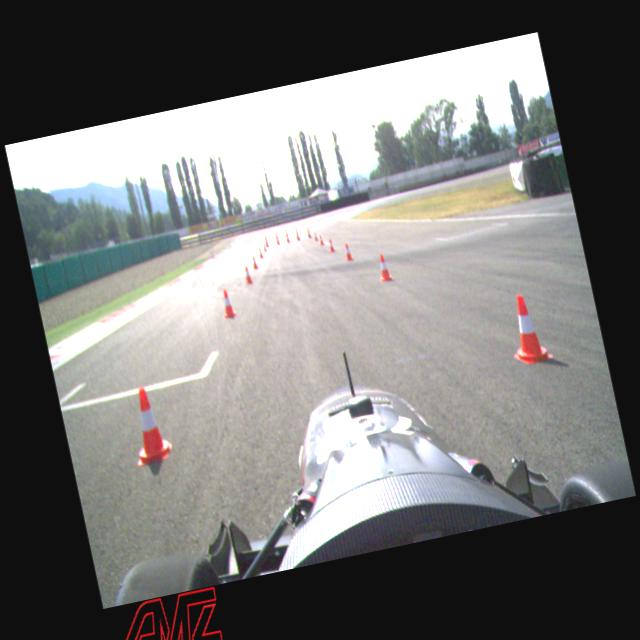large_orange_cone: (273, 231, 281, 245), (283, 229, 291, 243), (304, 225, 312, 238), (294, 227, 300, 241), (263, 234, 269, 247)
orange_cone: (122, 384, 174, 466), (502, 289, 554, 366), (374, 251, 394, 282), (218, 288, 237, 318), (342, 241, 354, 261), (242, 264, 253, 284), (326, 238, 335, 252), (250, 256, 258, 270), (256, 246, 264, 258), (318, 233, 324, 246), (261, 242, 267, 252), (312, 230, 318, 240)
